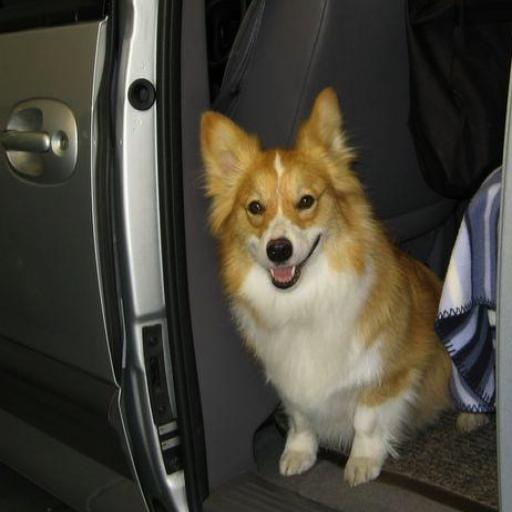dog_face: (198, 94, 350, 278)
